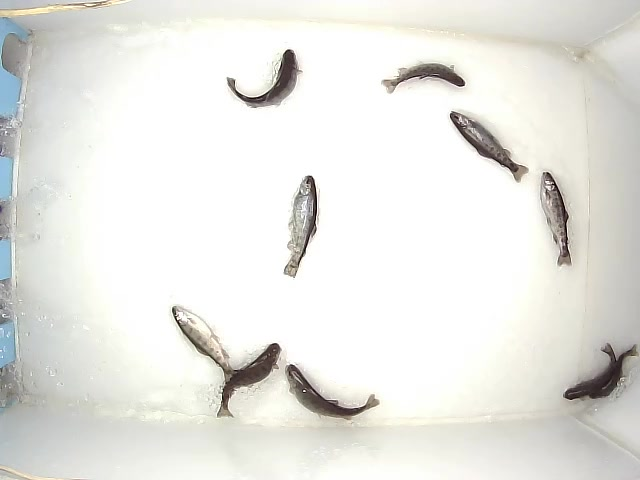fish: (448, 109, 533, 184), (284, 361, 382, 419), (214, 341, 284, 422), (171, 301, 235, 383), (225, 47, 303, 109), (279, 174, 318, 280), (561, 341, 622, 402), (588, 343, 640, 404), (540, 169, 572, 265), (380, 60, 466, 95)
